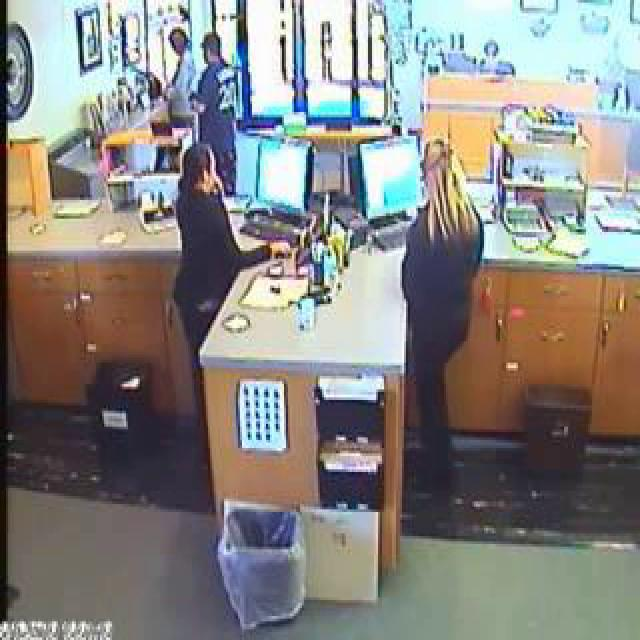robbery: (162, 70, 489, 321)
